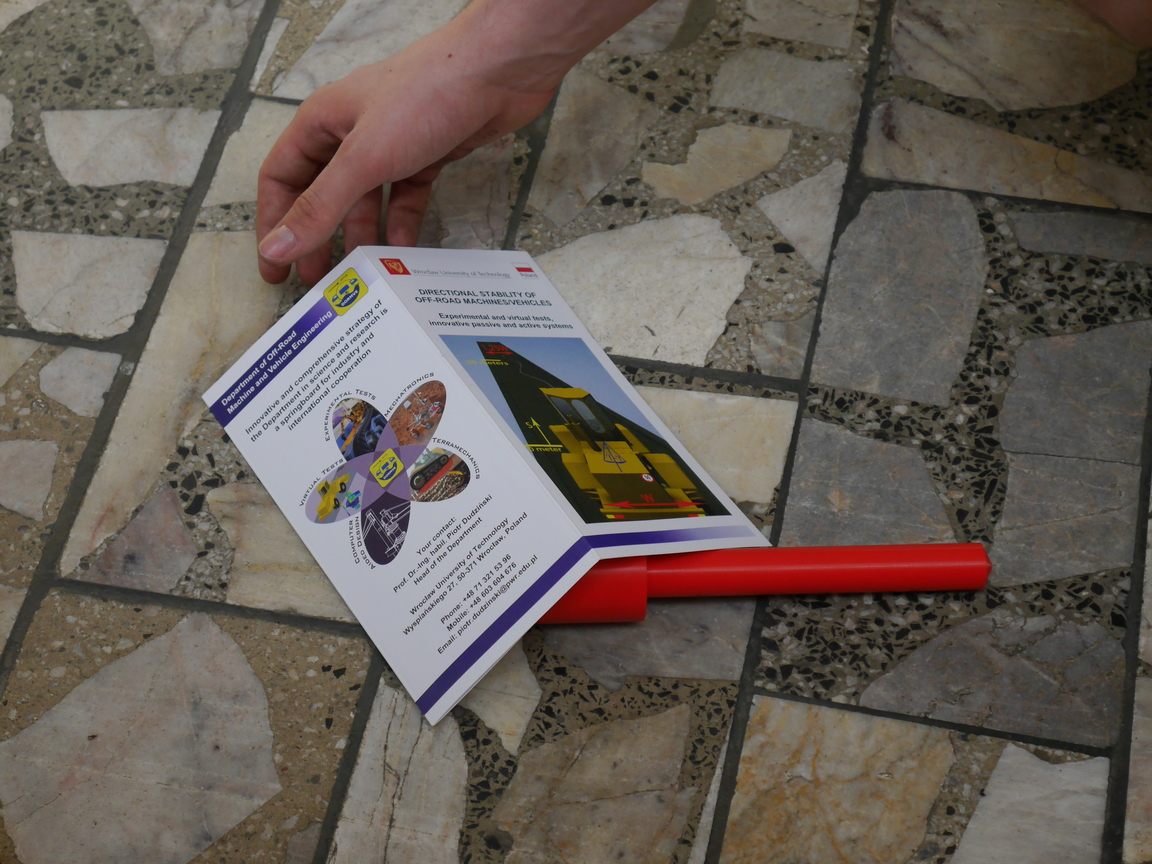cargo_g: (524, 541, 991, 627)
